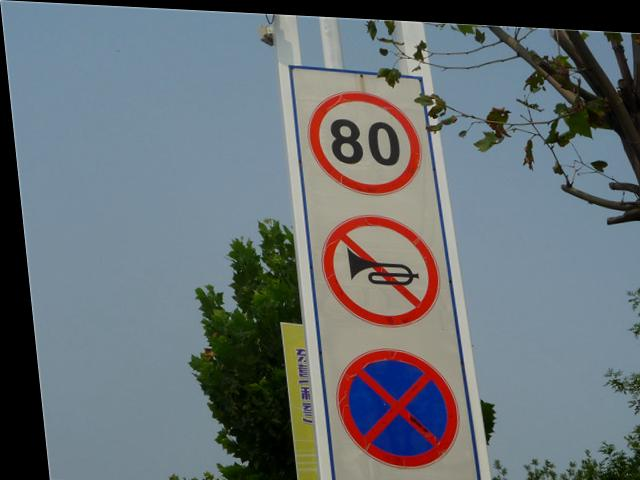limit80: (299, 85, 428, 200)
